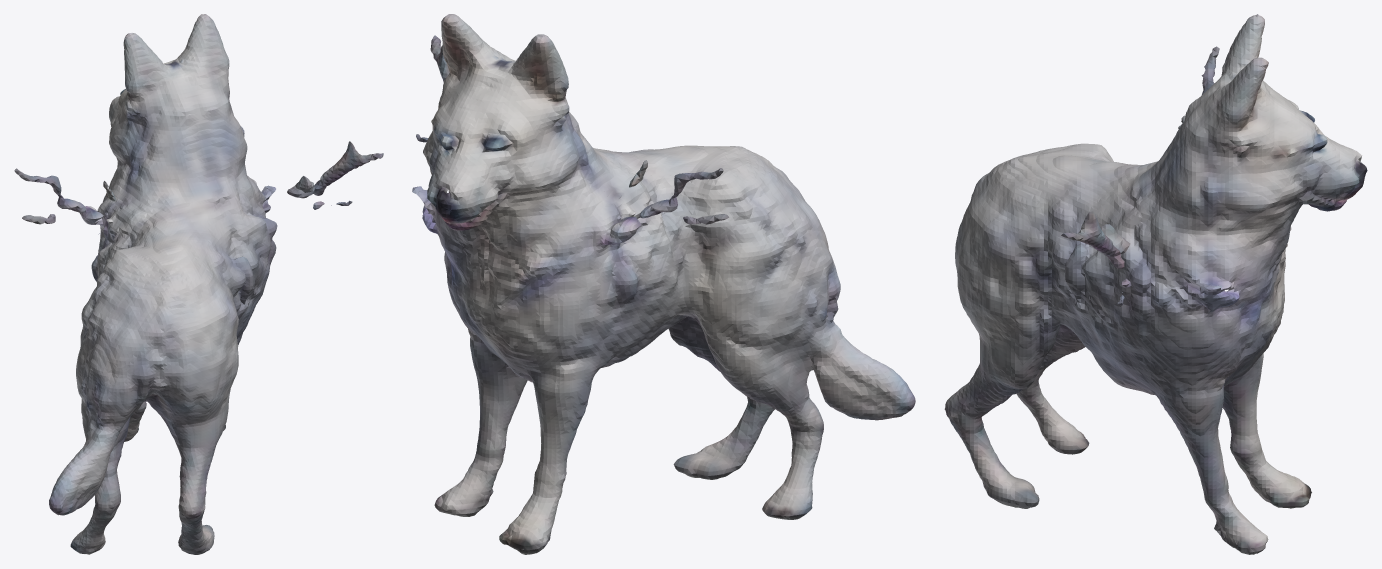
Rendered from triposr_raw.glb.
The picture shows the model from 3 angles, left to right: view 1: azimuth 30°, elevation 25°; view 2: azimuth 150°, elevation 25°; view 3: azimuth 270°, elevation 25°; orthographic projection. The views are drawn at different scales.
Visible parts, largest first — view 1: world; view 2: world; view 3: world.
Boxes of the visible parts, bbox=[...] form: world: bbox=[14, 14, 383, 554]; world: bbox=[412, 14, 915, 554]; world: bbox=[944, 14, 1367, 554].
Bounding box in the file's own units: 0.8273 × 0.9324 × 0.7019.
